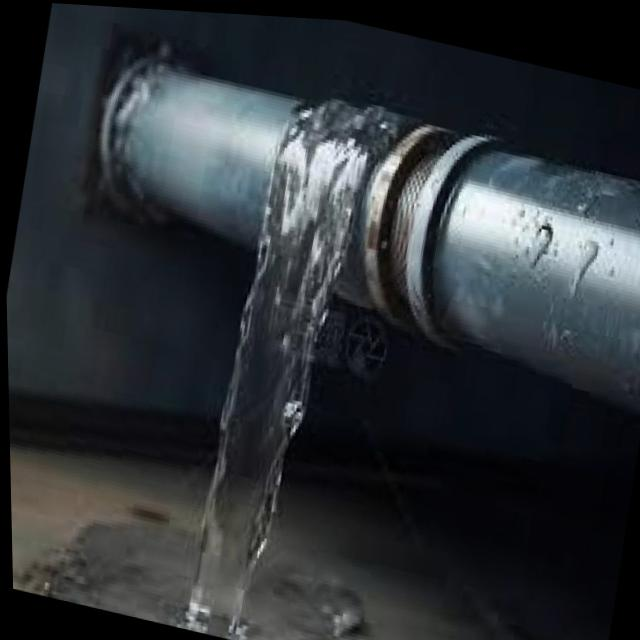leak: (13, 92, 397, 640)
